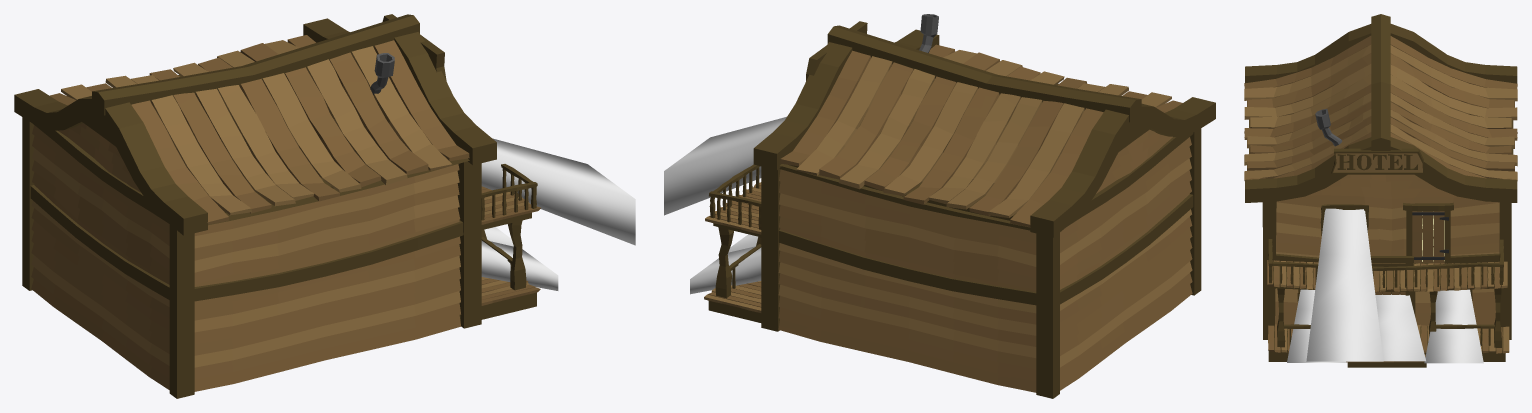
File: hotel_001.glb
3 renders of one model, left to right at view 1: azimuth 30°, elevation 25°; view 2: azimuth 150°, elevation 25°; view 3: azimuth 270°, elevation 25°, orthographic. The views are drawn at different scales.
Visible parts, largest first — view 1: Cube.003, WindowLightShafts; view 2: Cube.003, WindowLightShafts; view 3: Cube.003, WindowLightShafts, DoorFrame, DoorPanel.
Boxes of the visible parts, <box> form: Cube.003: <box>14,14,540,398</box>; WindowLightShafts: <box>481,138,635,290</box>; Cube.003: <box>704,14,1215,398</box>; WindowLightShafts: <box>664,116,786,294</box>; Cube.003: <box>1244,14,1517,367</box>; WindowLightShafts: <box>1287,208,1483,363</box>; DoorFrame: <box>1370,256,1413,308</box>; DoorPanel: <box>1371,263,1408,295</box>.
Bounding box in the file's own units: 15.38 × 7.68 × 9.23.
